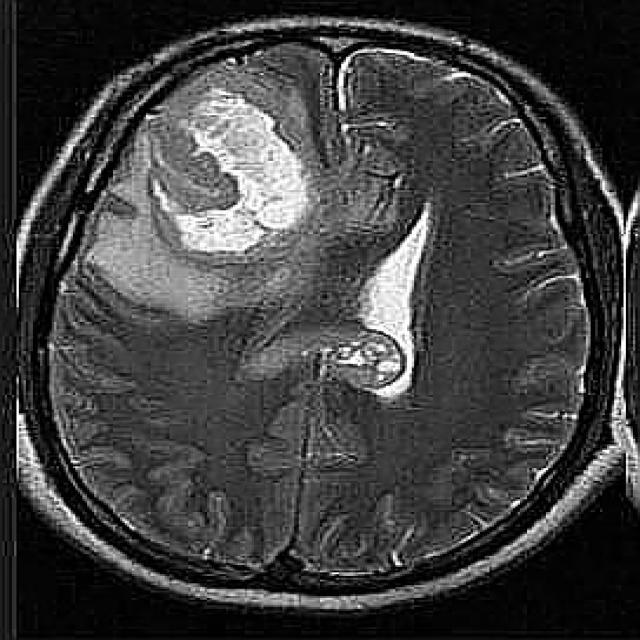Tumor-Cell: (145, 72, 355, 266)
